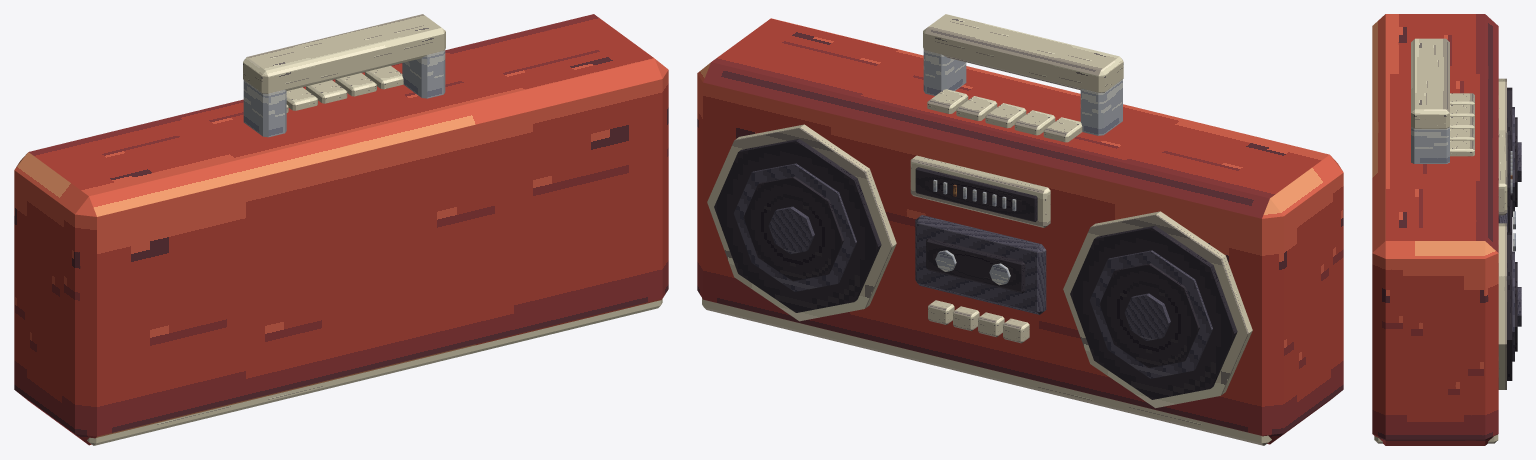
File: radio-compacto.glb
3 renders of one model, left to right at view 1: azimuth 30°, elevation 25°; view 2: azimuth 150°, elevation 25°; view 3: azimuth 270°, elevation 25°, orthographic. The views are drawn at different scales.
Visible parts, largest first — view 1: Gabinete, Alça, Friso inferior, Suporte da alça, Suporte da alça.001, Tecla.002, Tecla.003, Tecla.004; view 2: Gabinete, Grade, Grade.001, Alça, Tampa de fita, Aro, Aro.001, Cone, Cone.001, Friso inferior, Suspensão, Suspensão.001 (+12 smaller); view 3: Gabinete, Alça, Aro.001, Suporte da alça.001, Grade.001, Moldura do sintonizador, Aro, Tecla.004, Grade, Suspensão.001, Tecla.003, Suspensão (+9 smaller).
Part boxes in pixels (bbox=[...]): Gabinete: bbox=[14, 14, 668, 445]; Alça: bbox=[243, 14, 445, 93]; Friso inferior: bbox=[87, 299, 662, 445]; Suporte da alça: bbox=[243, 80, 286, 137]; Suporte da alça.001: bbox=[402, 49, 445, 98]; Tecla.002: bbox=[306, 80, 347, 103]; Tecla.003: bbox=[335, 73, 376, 96]; Tecla.004: bbox=[365, 66, 403, 89]; Gabinete: bbox=[697, 18, 1343, 444]; Grade: bbox=[1070, 225, 1237, 399]; Grade.001: bbox=[714, 139, 881, 312]; Alça: bbox=[923, 14, 1123, 92]; Tampa de fita: bbox=[915, 215, 1046, 314]; Aro: bbox=[1063, 211, 1252, 408]; Aro.001: bbox=[707, 124, 896, 321]; Cone: bbox=[1099, 263, 1199, 367]; Cone.001: bbox=[743, 176, 843, 281]; Friso inferior: bbox=[702, 298, 1271, 445]; Suspensão: bbox=[1090, 250, 1212, 378]; Suspensão.001: bbox=[734, 163, 856, 291]; Gabinete: bbox=[1372, 14, 1498, 445]; Alça: bbox=[1411, 38, 1449, 128]; Aro.001: bbox=[1498, 223, 1506, 389]; Suporte da alça.001: bbox=[1411, 127, 1449, 163]; Grade.001: bbox=[1507, 232, 1512, 380]; Moldura do sintonizador: bbox=[1498, 130, 1507, 215]; Aro: bbox=[1498, 78, 1506, 131]; Tecla.004: bbox=[1450, 140, 1474, 156]; Grade: bbox=[1507, 87, 1512, 200]; Suspensão.001: bbox=[1512, 251, 1514, 361]; Tecla.003: bbox=[1450, 128, 1474, 141]; Suspensão: bbox=[1512, 107, 1514, 216].
Size of the model in its own units: 2.32 by 1.17 by 0.6155.
6 materials, 6 textured.
